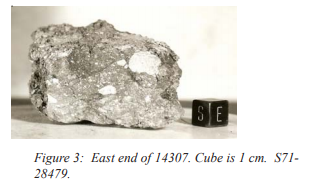Breccia: (25, 15, 187, 130), (33, 45, 140, 115), (69, 60, 152, 124)
